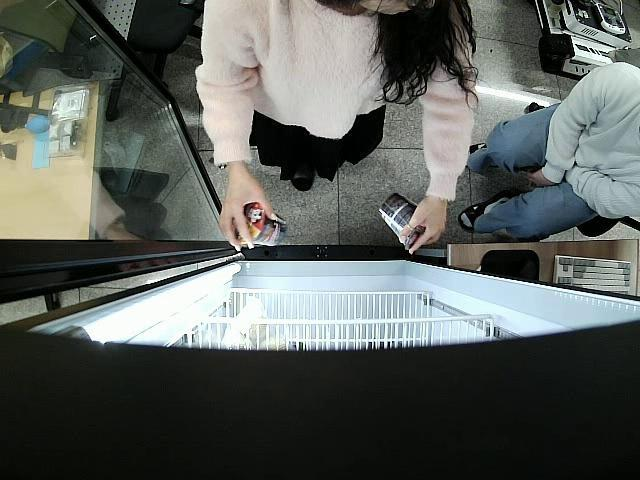08_buldak_S: (376, 192, 424, 251), (233, 203, 288, 248)
